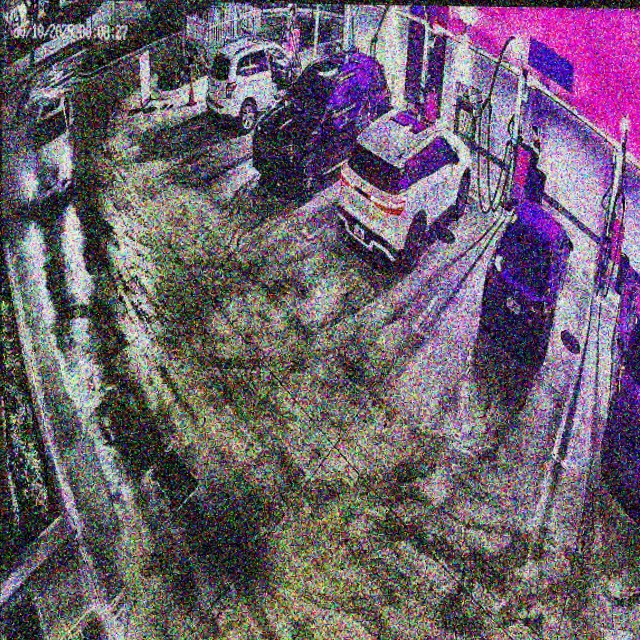Car: (339, 101, 471, 273), (252, 46, 392, 197), (481, 195, 574, 362)
